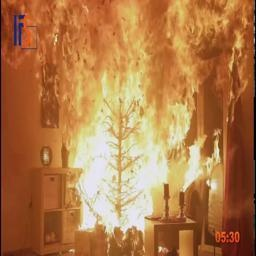fire: (1, 0, 236, 230)
